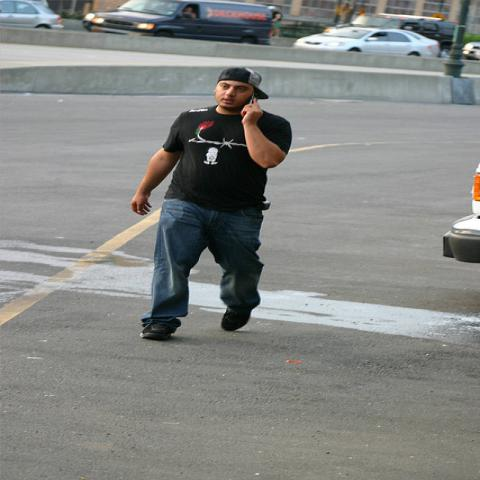car: (292, 26, 440, 57), (443, 178, 479, 266), (0, 0, 65, 30), (462, 42, 480, 60)
truck: (74, 0, 274, 50), (349, 13, 458, 51)
